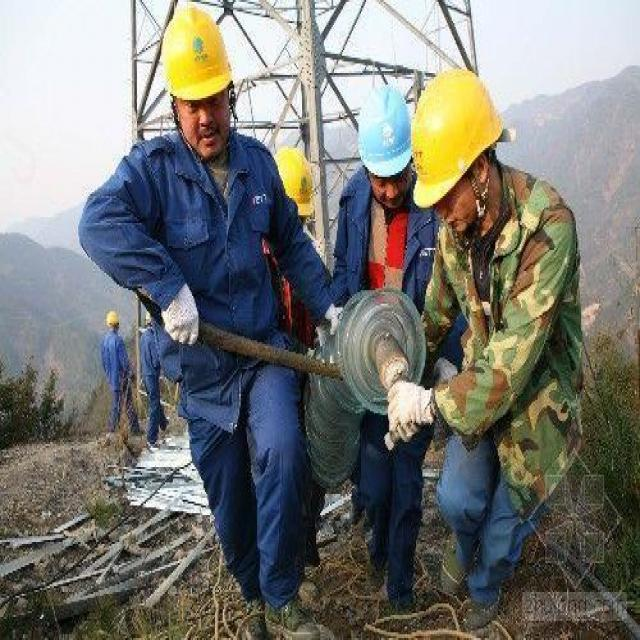boots: (264, 599, 322, 640), (462, 598, 500, 630), (438, 553, 465, 595), (242, 597, 266, 639)
gloves: (384, 379, 436, 451), (160, 282, 199, 346), (430, 356, 458, 388)
hard-hat: (409, 67, 503, 208), (160, 2, 232, 101), (356, 83, 412, 177), (105, 310, 119, 326)
person: (77, 1, 345, 639), (381, 67, 585, 629), (305, 84, 459, 610), (101, 309, 142, 434), (138, 314, 170, 450)
ppe-suit: (77, 125, 342, 610), (98, 333, 134, 423), (136, 337, 164, 438)
